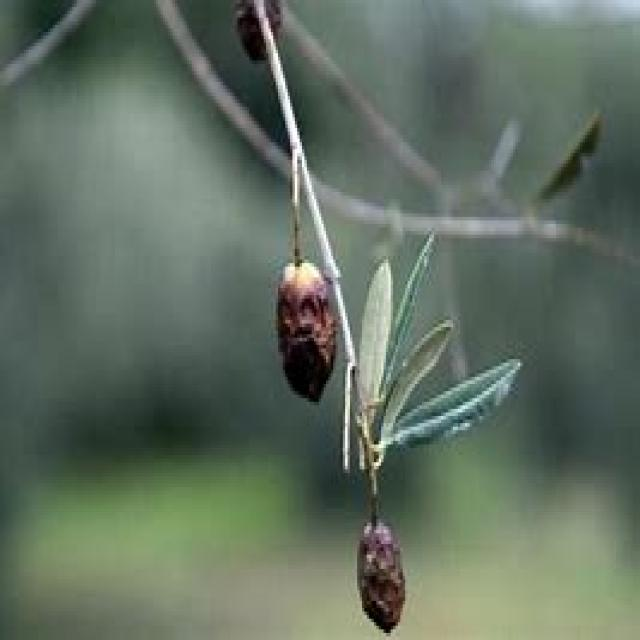Olive Fruit Fly: (276, 256, 336, 401), (357, 519, 405, 633)
